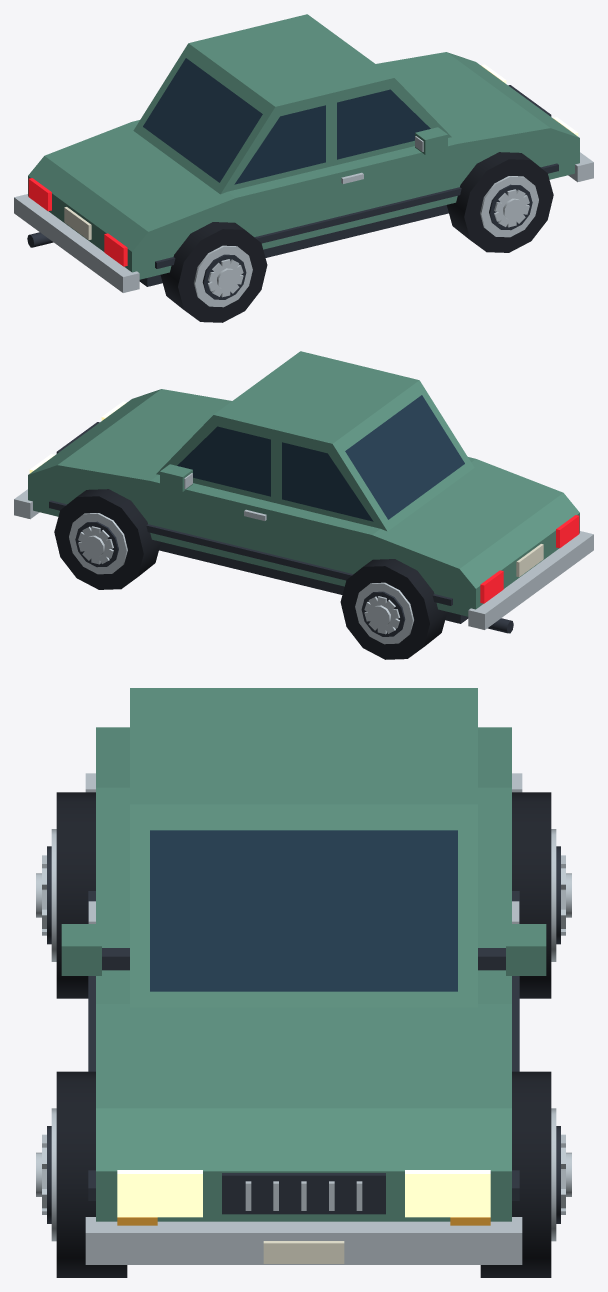
The model's file is low-poly-car_green.glb.
The picture shows the model from 3 angles, top to bottom: view 1: azimuth 30°, elevation 25°; view 2: azimuth 150°, elevation 25°; view 3: azimuth 270°, elevation 25°; orthographic projection. The views are drawn at different scales.
Visible parts, largest first — view 1: Body, Cabin, Tire (×2), Rear_Windshield, Left_Front_Window, Left_Rear_Window, Rear_Bumper, Rim (×2), Left_Side_Trim, Undercarriage, Rim_Inset (×2), Left_Mirror (+4 smaller); view 2: Body, Cabin, Tire (×2), Rear_Windshield, Right_Front_Window, Right_Rear_Window, Rear_Bumper, Rim (×2), Right_Side_Trim, Undercarriage, Rim_Inset (×2), Right_Mirror (+4 smaller); view 3: Body, Cabin, Windshield, Tire (×4), Front_Bumper, Front_Grille, Headlight_-1, Headlight_1, Rim (×4), Right_Mirror, Left_Mirror, Front_Plate (+2 smaller).
Part boxes in pixels (<box>): Body: <box>28,52,579,279</box>; Cabin: <box>133,14,451,194</box>; Tire (×2): <box>160,152,553,322</box>; Rear_Windshield: <box>143,58,262,182</box>; Left_Front_Window: <box>337,89,430,159</box>; Left_Rear_Window: <box>234,105,325,184</box>; Rear_Bumper: <box>14,194,139,292</box>; Rim (×2): <box>194,176,538,307</box>; Left_Side_Trim: <box>155,163,558,268</box>; Undercarriage: <box>139,205,448,286</box>; Rim_Inset (×2): <box>202,184,532,299</box>; Left_Mirror: <box>415,127,447,154</box>; Body: <box>28,389,579,616</box>; Cabin: <box>156,351,474,531</box>; Tire (×2): <box>54,489,447,659</box>; Rear_Windshield: <box>345,395,464,519</box>; Right_Front_Window: <box>177,426,270,496</box>; Right_Rear_Window: <box>282,442,373,521</box>; Rear_Bumper: <box>468,531,593,629</box>; Rim (×2): <box>69,513,413,644</box>; Right_Side_Trim: <box>49,500,452,605</box>; Undercarriage: <box>159,542,468,623</box>; Rim_Inset (×2): <box>75,521,405,636</box>; Right_Mirror: <box>160,464,192,491</box>; Body: <box>96,727,511,1221</box>; Cabin: <box>130,688,477,1007</box>; Windshield: <box>150,830,457,991</box>; Tire (×4): <box>56,792,551,1277</box>; Front_Bumper: <box>85,1217,522,1264</box>; Front_Grille: <box>222,1173,385,1214</box>; Headlight_-1: <box>405,1170,490,1217</box>; Headlight_1: <box>117,1170,202,1217</box>; Rim (×4): <box>51,829,556,1241</box>; Right_Mirror: <box>506,924,546,975</box>; Left_Mirror: <box>61,924,101,975</box>; Front_Plate: <box>263,1241,344,1263</box>.
Bounding box in the file's own units: 4.37 × 1.62 × 2.13.
